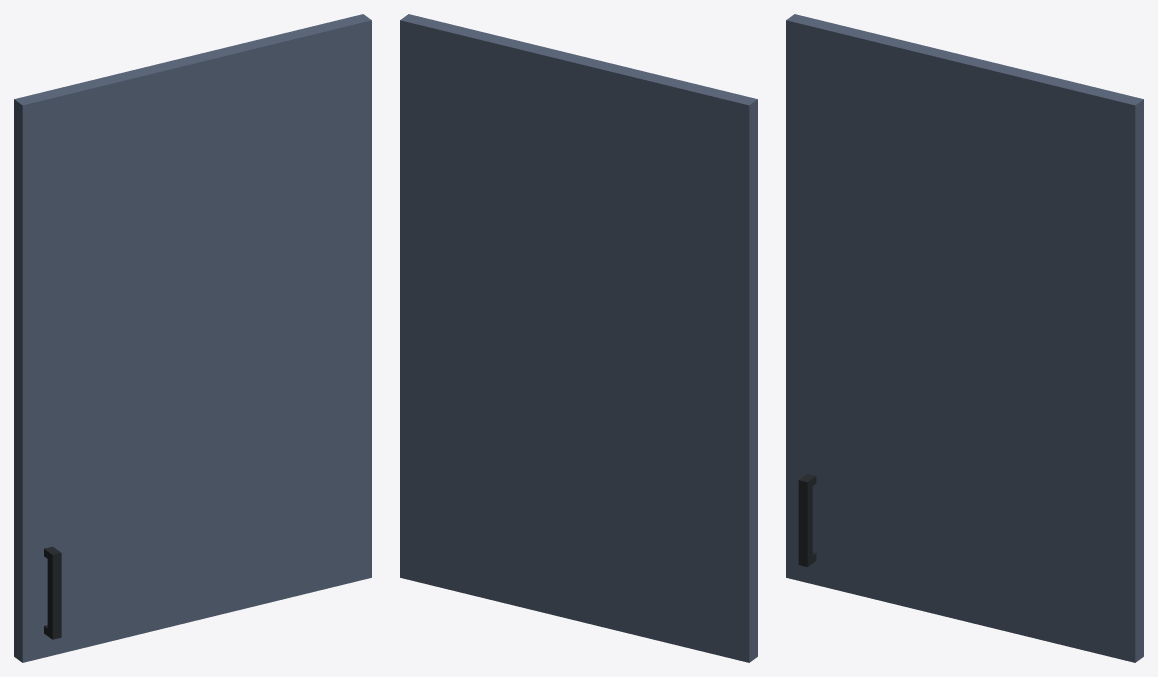
The model's file is Door1_C4_11.fbx.
3 renders of one model, left to right at view 1: azimuth 30°, elevation 25°; view 2: azimuth 150°, elevation 25°; view 3: azimuth 330°, elevation 25°, orthographic.
Visible parts, largest first — view 1: Door1_C4_11; view 2: Door1_C4_11; view 3: Door1_C4_11.
Boxes of the visible parts, bbox=[...] form: Door1_C4_11: bbox=[14, 14, 371, 662]; Door1_C4_11: bbox=[400, 14, 757, 662]; Door1_C4_11: bbox=[786, 14, 1143, 662].
Size of the model in its own units: 59 by 90 by 5.03.
